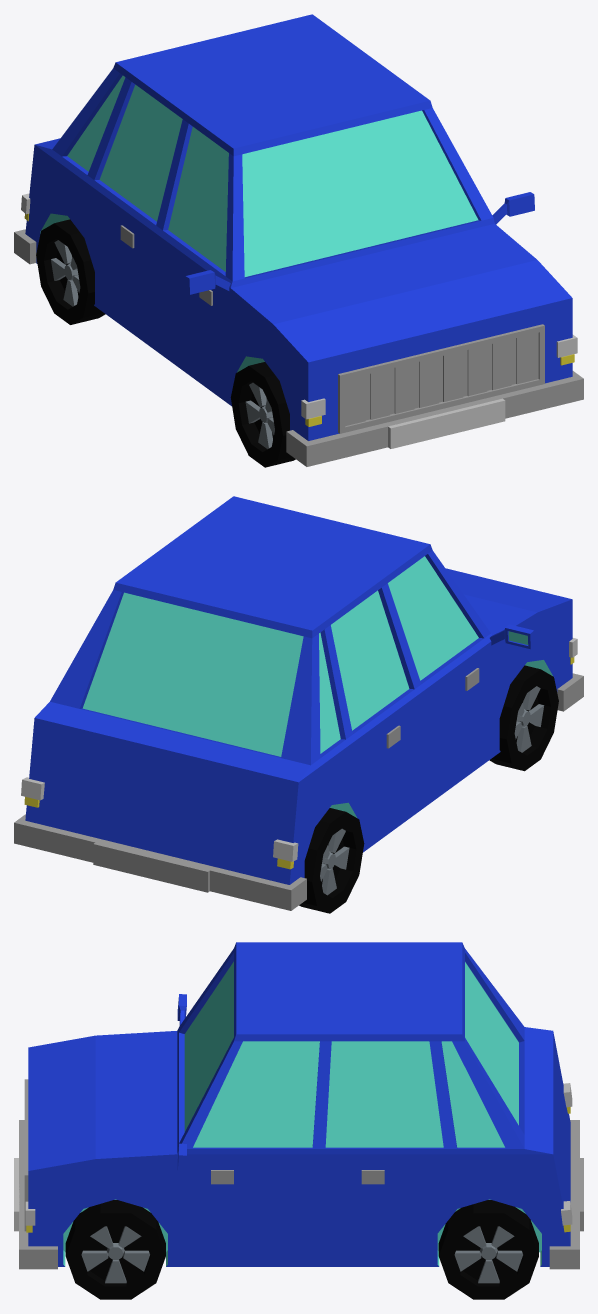
Rendered from car3.fbx.
The picture shows the model from 3 angles, top to bottom: view 1: azimuth 30°, elevation 25°; view 2: azimuth 150°, elevation 25°; view 3: azimuth 270°, elevation 25°; orthographic projection. The views are drawn at different scales.
Parts seen in each view (by area): view 1: Cube.003, Cylinder.007, Cylinder.006; view 2: Cube.003, Cylinder.006, Cylinder.007; view 3: Cube.003, Cylinder.006, Cylinder.007.
Part boxes in pixels (x1=…): Cube.003: x1=14, y1=14, x2=583, y2=466; Cylinder.007: x1=36, y1=219, x2=105, y2=324; Cylinder.006: x1=230, y1=362, x2=295, y2=467; Cube.003: x1=14, y1=496, x2=583, y2=910; Cylinder.006: x1=489, y1=665, x2=558, y2=771; Cylinder.007: x1=299, y1=808, x2=364, y2=913; Cube.003: x1=14, y1=942, x2=583, y2=1269; Cylinder.006: x1=65, y1=1200, x2=165, y2=1299; Cylinder.007: x1=438, y1=1200, x2=538, y2=1299.
Bounding box in the file's own units: 1.99 × 2.98 × 1.42.
